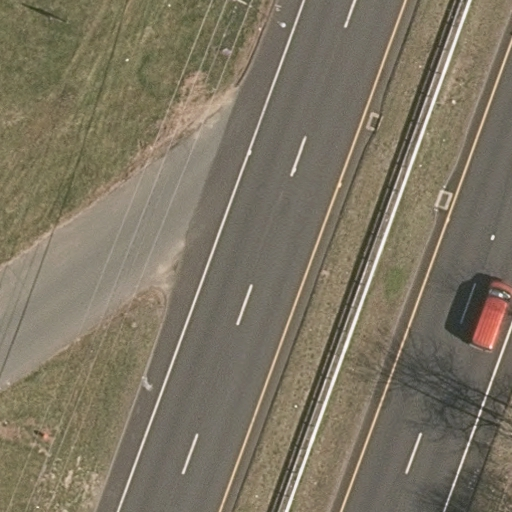DT: (228, 1, 292, 39)
